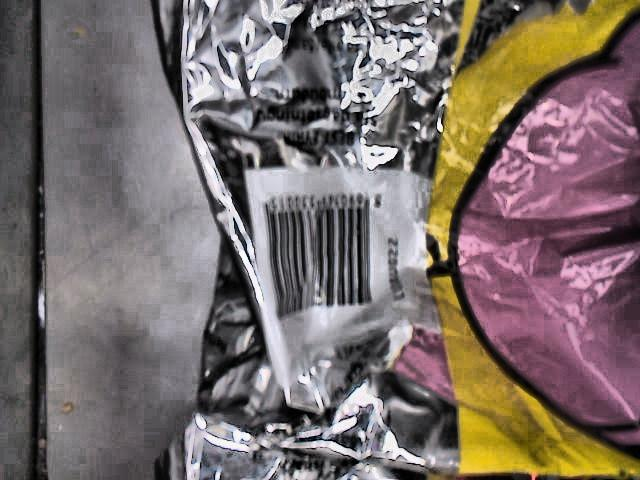Plastic: (149, 0, 640, 480)
